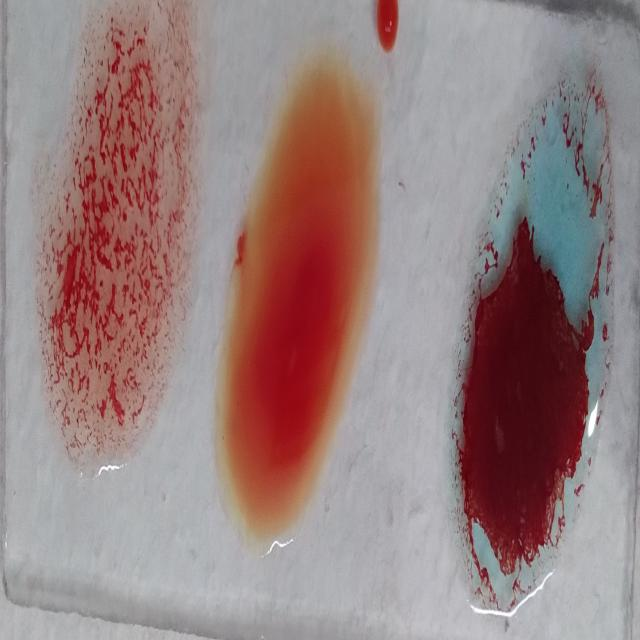A: (452, 68, 614, 622)
D: (45, 13, 184, 477)
